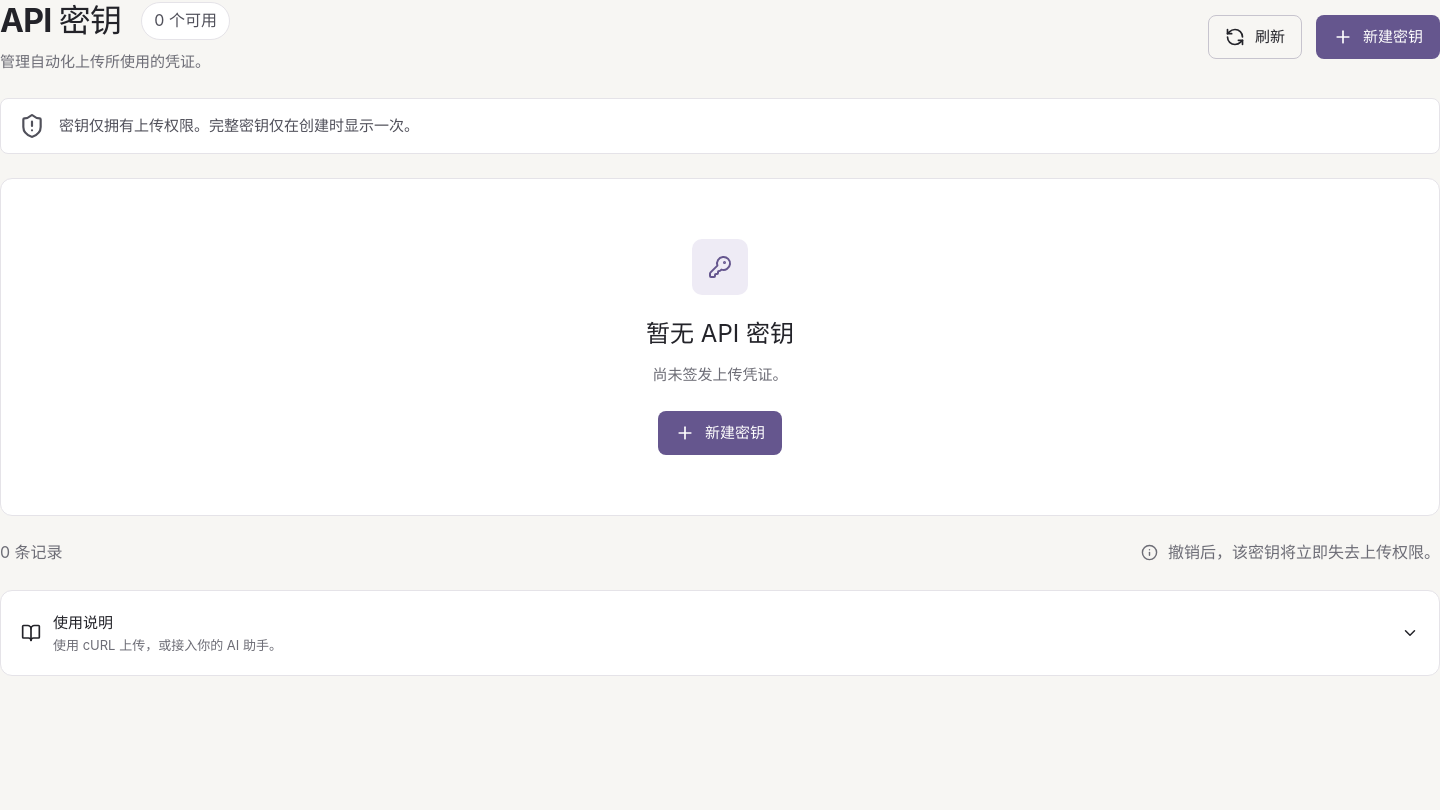
Test case: ApiKeysPage › shows the guide in Chinese and reports clipboard failure
This screenshot has width=1440, height=810.
Expected: the heading "暂无 API 密钥" is shown, [646,319,794,348]
Step 1. Click the text "使用说明" → coordinates (83, 622), box [53,613,113,632]
(page scrolled)
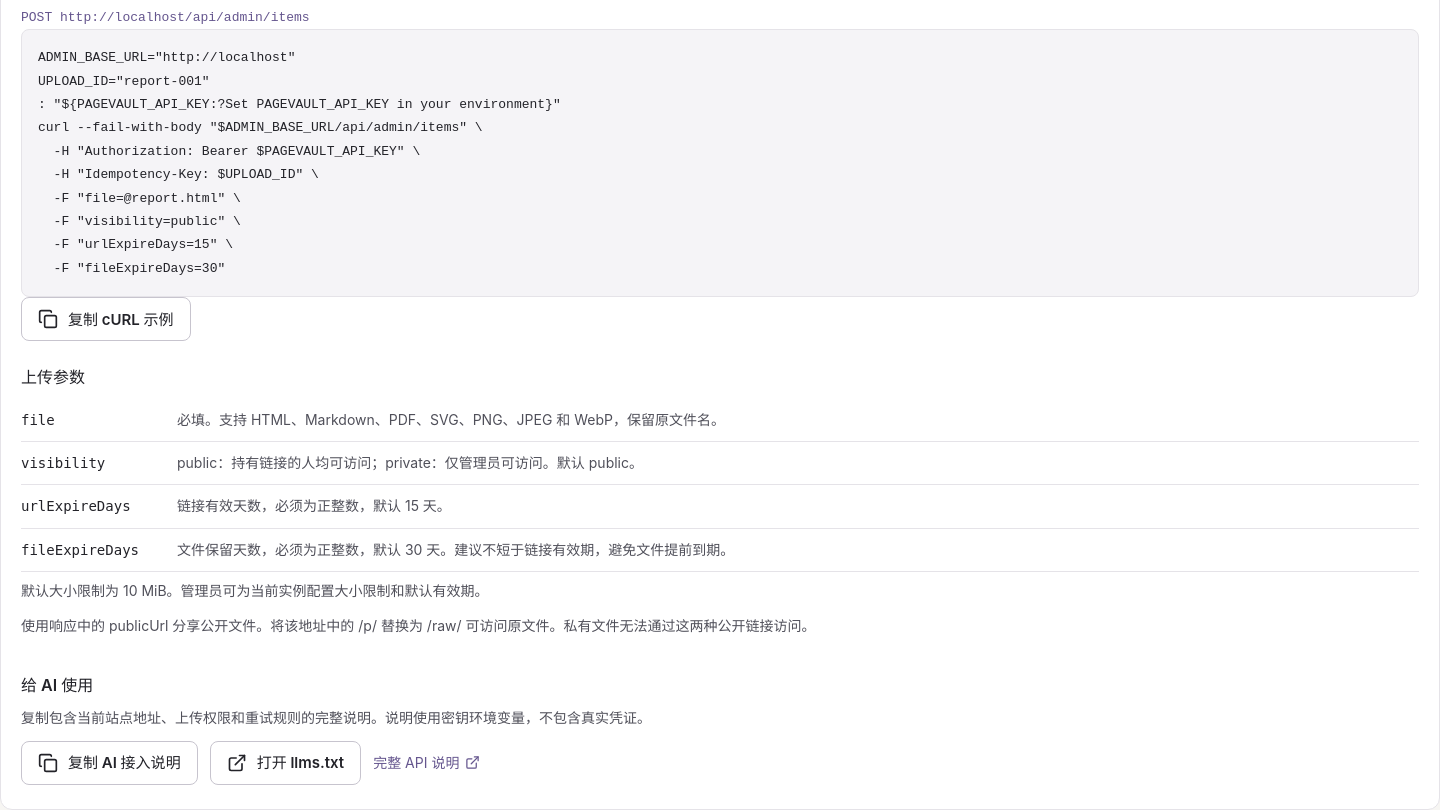
Step 2. Click the button "复制 AI 接入说明" → coordinates (109, 763), box [21,741,198,785]
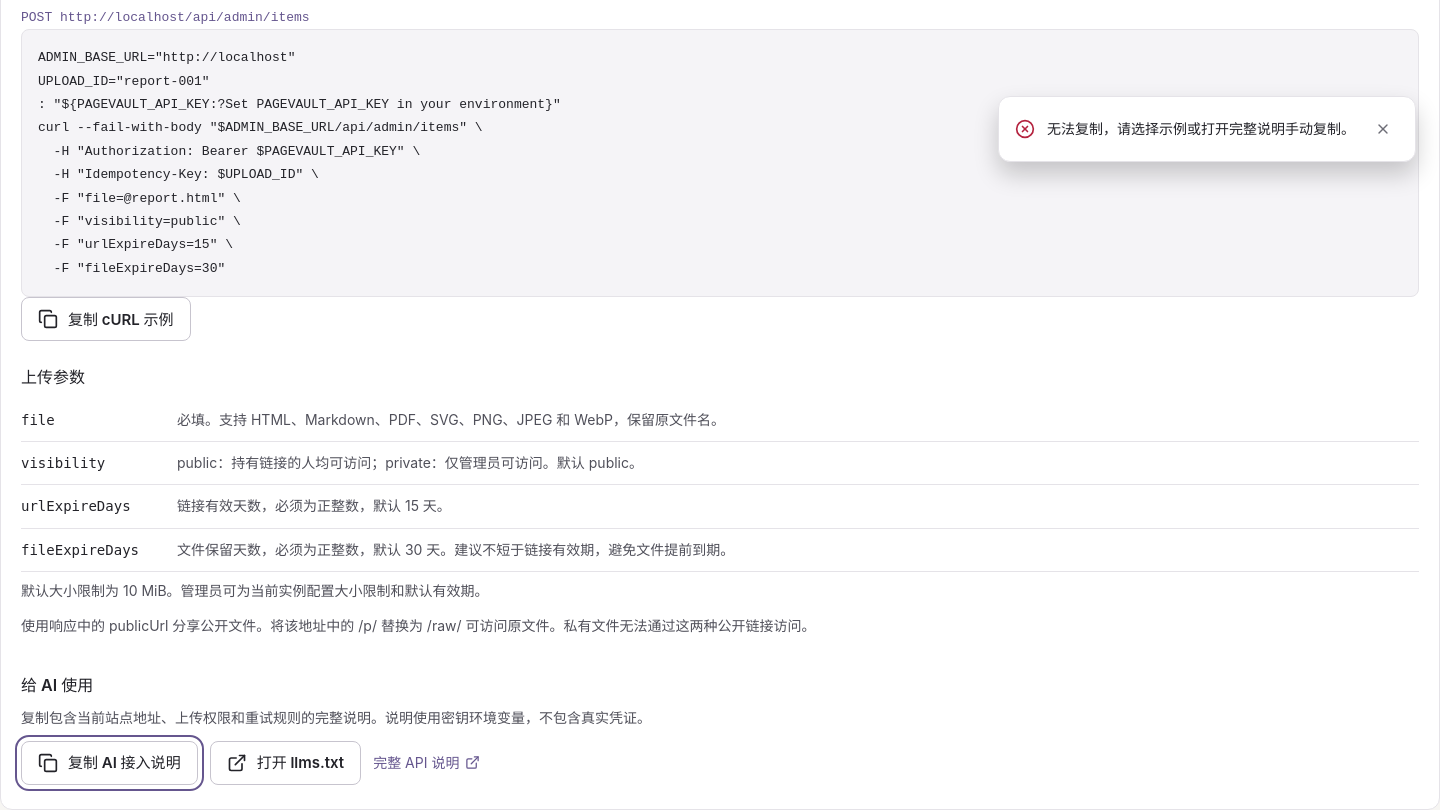
Result: the element named "cURL 上传示例" is shown at [21,29,1419,297]
Result: the message shows "无法复制" at [1047,120,1355,137]
